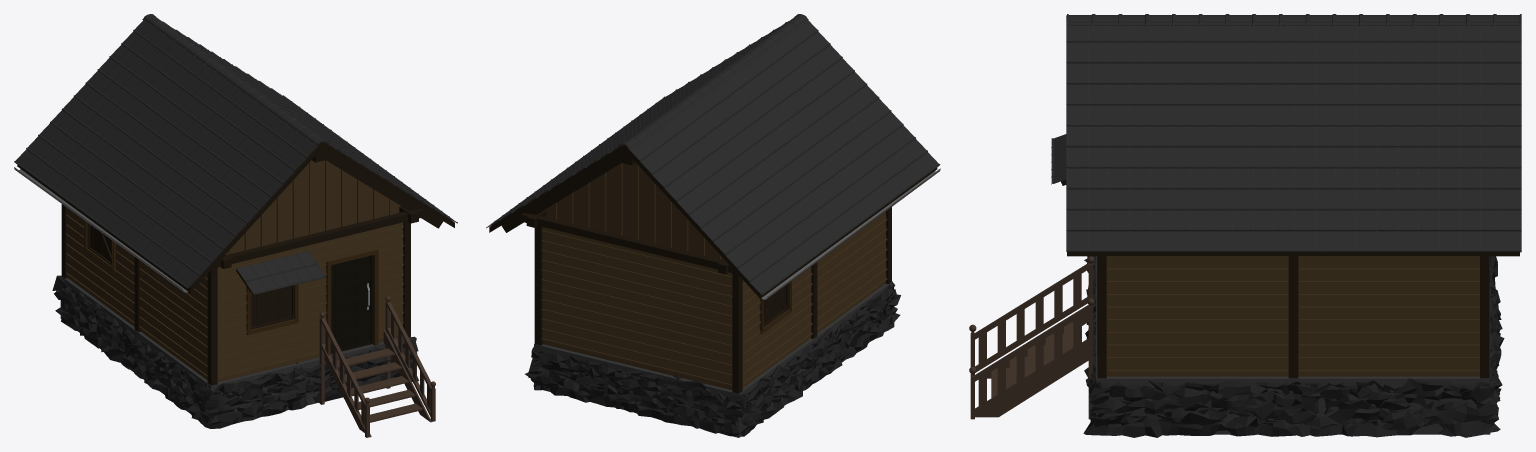
Rendered from Cabaña.fbx.
3 renders of one model, left to right at view 1: azimuth 30°, elevation 25°; view 2: azimuth 150°, elevation 25°; view 3: azimuth 270°, elevation 25°, orthographic. The views are drawn at different scales.
Visible parts, largest first — view 1: Cabin Building, Stair, Door, Front Window, Side Window; view 2: Cabin Building, Side Window; view 3: Cabin Building, Stair.
Boxes of the visible parts, x1,y1,x2,y2 form: Cabin Building: [14, 14, 457, 428]; Stair: [319, 296, 435, 437]; Door: [331, 255, 372, 353]; Front Window: [251, 285, 293, 329]; Side Window: [87, 223, 111, 265]; Cabin Building: [486, 14, 940, 437]; Side Window: [764, 284, 788, 326]; Cabin Building: [1051, 14, 1521, 437]; Stair: [969, 256, 1094, 419].
Size of the model in its own units: 650 by 621 by 870.
